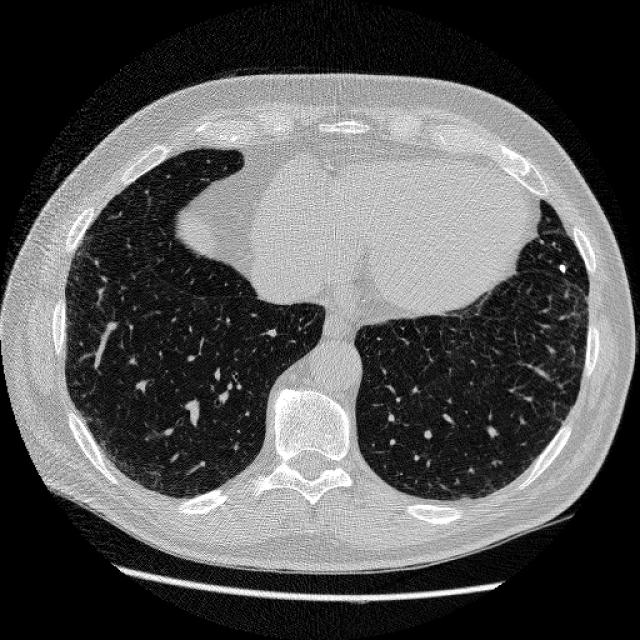nodule: (552, 259, 570, 276)
